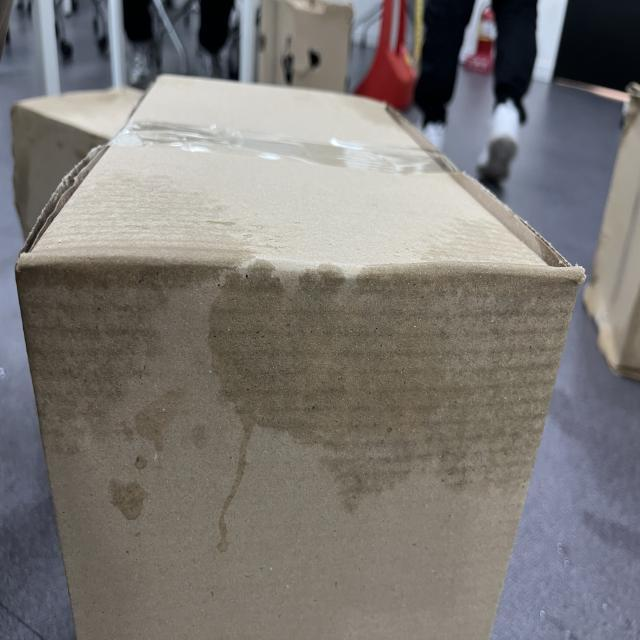wet: (33, 174, 238, 538), (245, 256, 573, 468)
